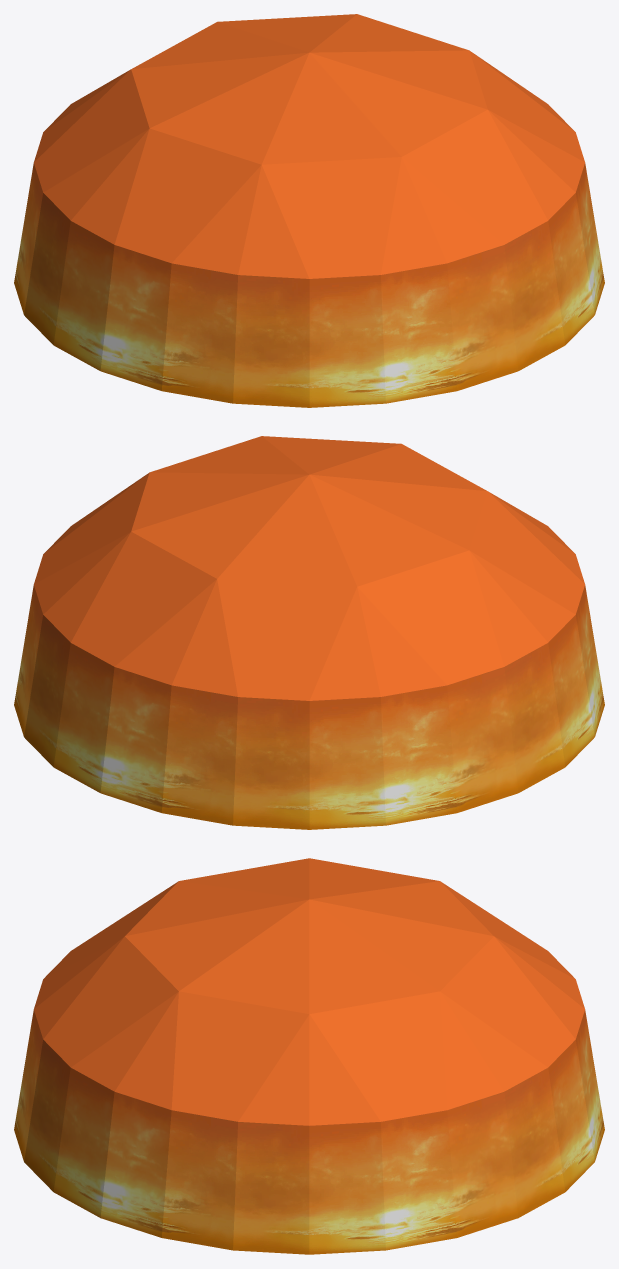
File: Seaside Hill 9.fbx
The picture shows the model from 3 angles, top to bottom: view 1: azimuth 30°, elevation 25°; view 2: azimuth 150°, elevation 25°; view 3: azimuth 270°, elevation 25°; orthographic projection.
Visible parts, largest first — view 1: Seaside hill 9; view 2: Seaside hill 9; view 3: Seaside hill 9.
Part boxes in pixels (x1,y1,x2,y2): Seaside hill 9: (14, 14, 604, 407); Seaside hill 9: (14, 436, 604, 829); Seaside hill 9: (14, 858, 604, 1254).
Bounding box in the file's own units: 1.26e+07 × 5458891 × 1.26e+07.
